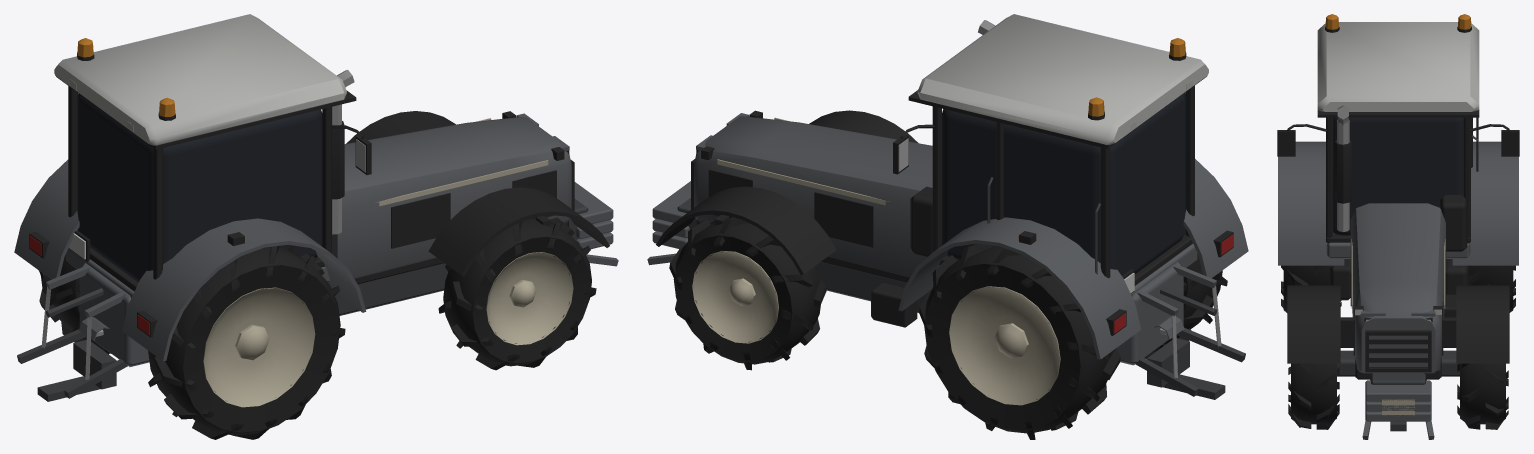
The model's file is SM_Prop_farm_tractor_2_LOD1.glb.
3 renders of one model, left to right at view 1: azimuth 30°, elevation 25°; view 2: azimuth 150°, elevation 25°; view 3: azimuth 270°, elevation 25°, orthographic. The views are drawn at different scales.
Visible parts, largest first — view 1: SM_Prop_farm_tractor_2_LOD1; view 2: SM_Prop_farm_tractor_2_LOD1; view 3: SM_Prop_farm_tractor_2_LOD1.
Boxes of the visible parts, left/top/right/bottom form: SM_Prop_farm_tractor_2_LOD1: left=14, top=14, right=618, bottom=439; SM_Prop_farm_tractor_2_LOD1: left=647, top=14, right=1248, bottom=439; SM_Prop_farm_tractor_2_LOD1: left=1277, top=14, right=1519, bottom=439.
Bounding box in the file's own units: 5.65 × 3.31 × 2.64.
